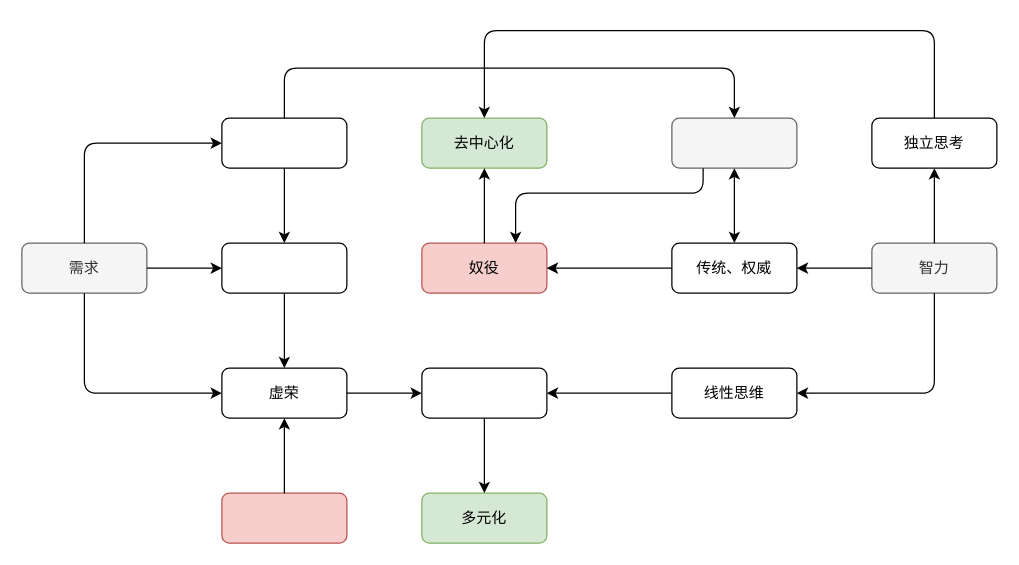
Some shapes in this 1019 by 565 pixel diagram are drawn without their labels. Each missing label, with the centre of its shape:
功利主义: the point at 484,392
时标: the point at 284,267
毒品: the point at 284,517
温饱: the point at 284,142
集体: the point at 734,142
